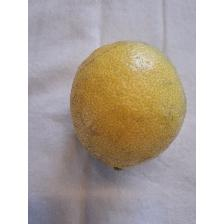Zitrone: (68, 39, 188, 173)
